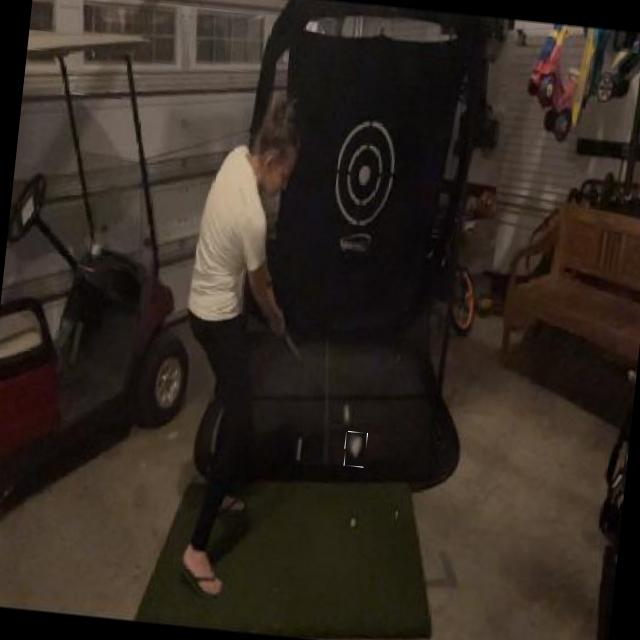club head: (342, 430, 368, 468)
